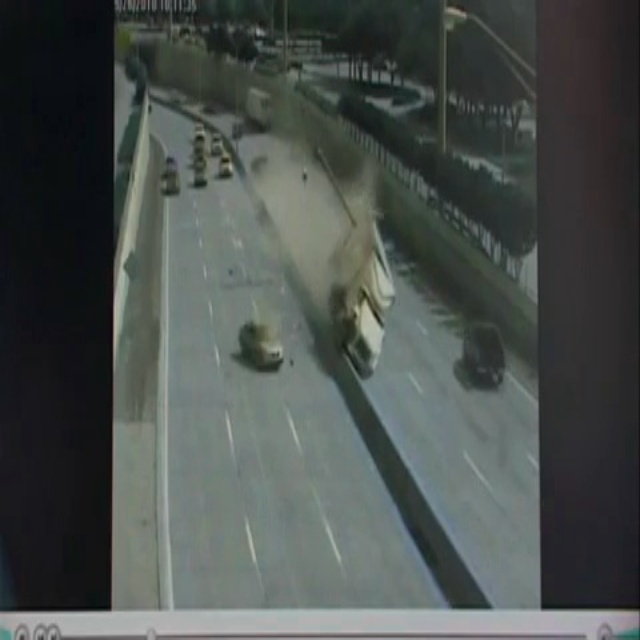acc: (303, 212, 404, 382)
